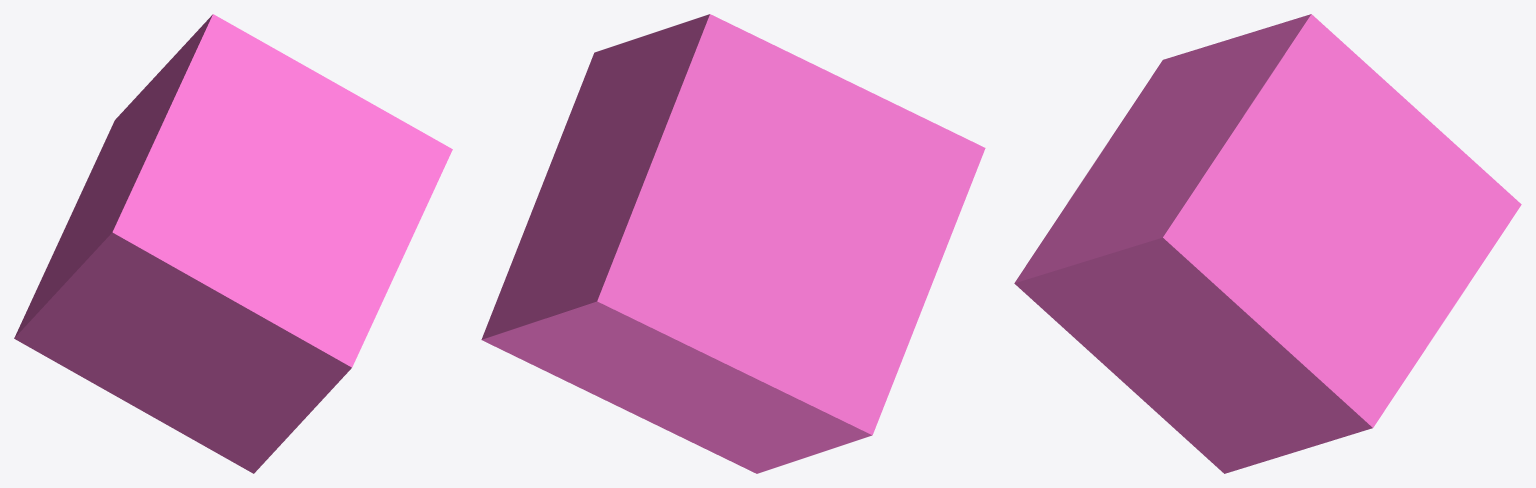
File: InfoExpo_PuntoDePartida.gltf
The picture shows the model from 3 angles, left to right: view 1: azimuth 30°, elevation 25°; view 2: azimuth 150°, elevation 25°; view 3: azimuth 270°, elevation 25°; orthographic projection. The views are drawn at different scales.
Visible parts, largest first — view 1: InfoExpo_PuntoDePartida; view 2: InfoExpo_PuntoDePartida; view 3: InfoExpo_PuntoDePartida.
Boxes of the visible parts, x1,y1,x2,y2 form: InfoExpo_PuntoDePartida: (14,14,452,473); InfoExpo_PuntoDePartida: (481,14,985,473); InfoExpo_PuntoDePartida: (1014,14,1521,473).
Bounding box in the file's own units: 0.3033 × 0.3661 × 0.3661.
